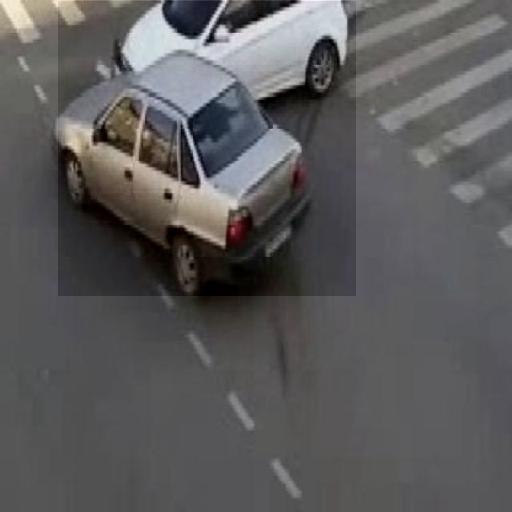小汽车撞小汽车: (58, 1, 356, 296)
